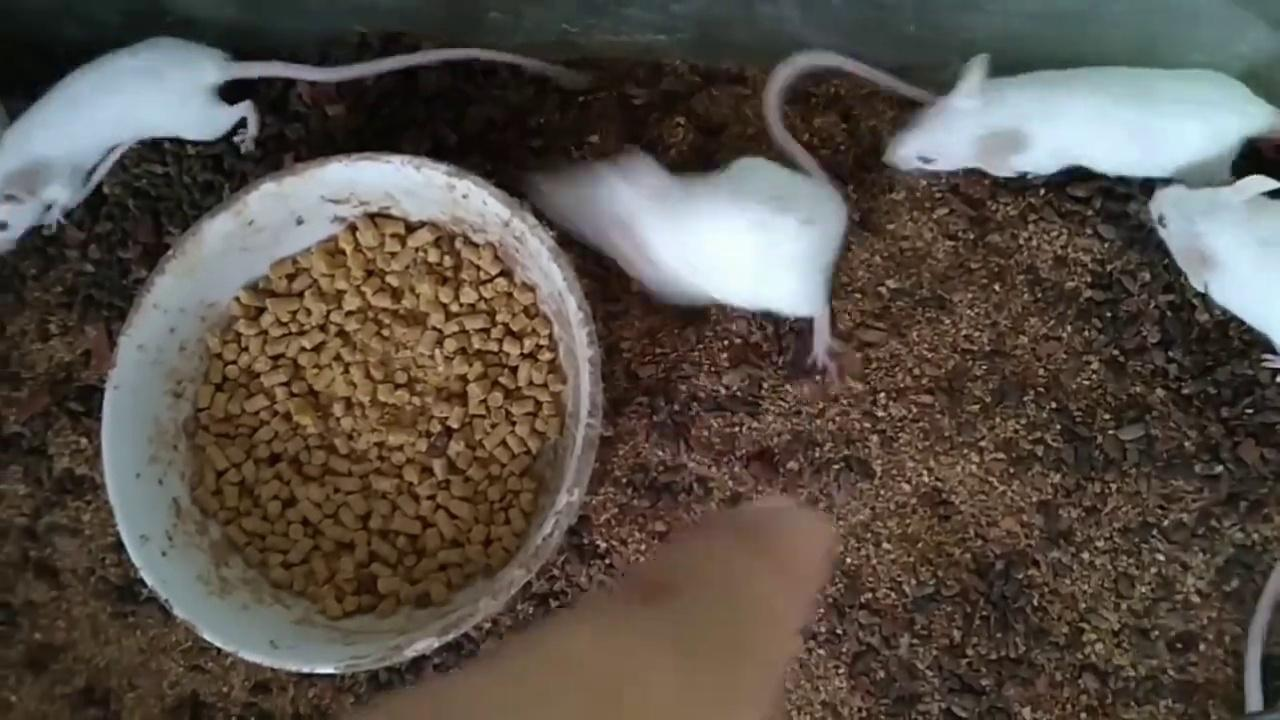rat: (534, 51, 938, 379), (0, 35, 583, 253), (886, 52, 1280, 181), (1150, 174, 1280, 385)
